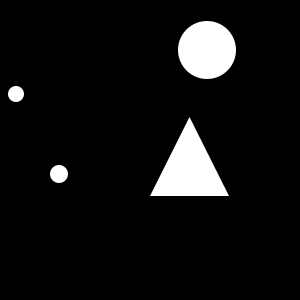rectangle: (178, 21, 236, 79), (50, 165, 68, 183), (8, 86, 24, 102)
triangle: (150, 117, 229, 196)
